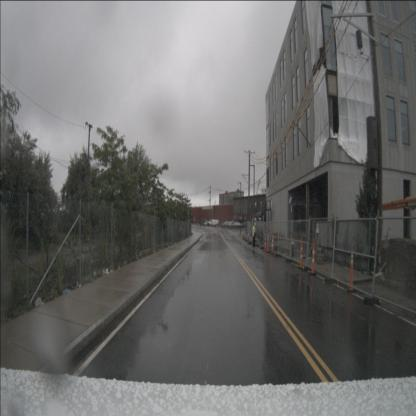cone: (346, 244, 356, 293), (309, 239, 317, 275), (298, 236, 304, 269), (270, 234, 274, 254), (266, 233, 270, 253), (263, 233, 267, 251), (247, 232, 250, 244), (242, 229, 245, 239)
